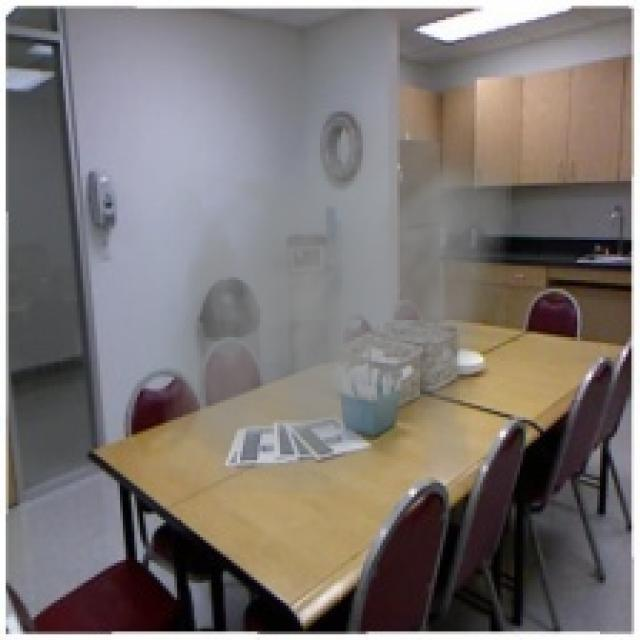Smoke: (163, 82, 512, 494)
